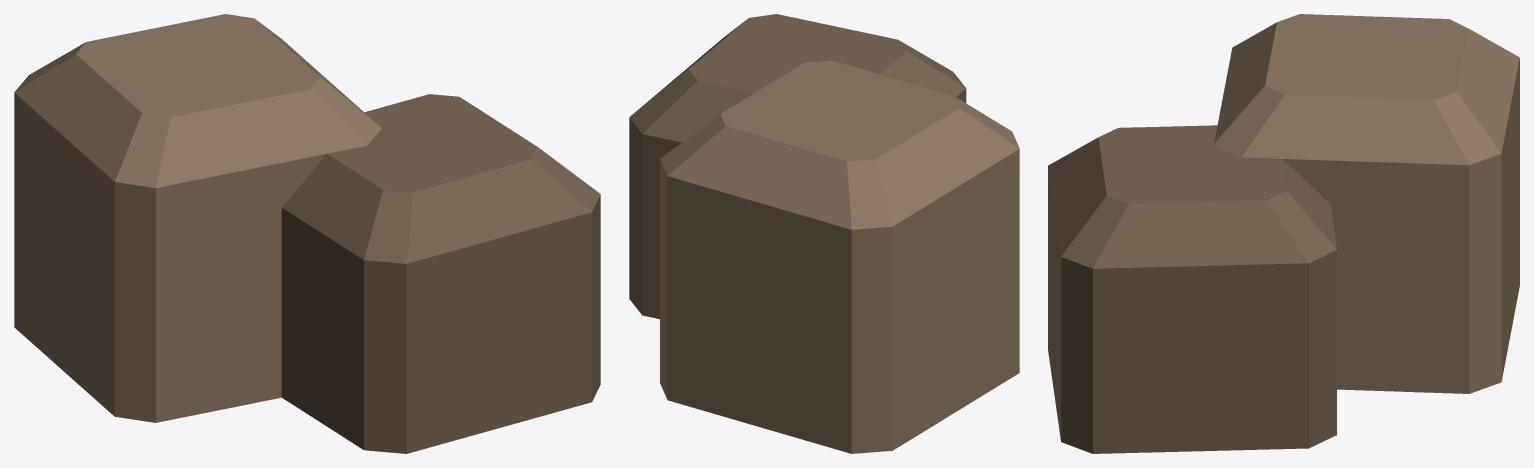
Rendered from cube_sculpture_sand_b.obj.
3 renders of one model, left to right at view 1: azimuth 30°, elevation 25°; view 2: azimuth 150°, elevation 25°; view 3: azimuth 270°, elevation 25°, orthographic. The views are drawn at different scales.
Parts seen in each view (by area): view 1: cube_sculpture_sand_b_0, cube_sculpture_sand_b_2, cube_sculpture_sand_b_1, cube_sculpture_sand_b_3; view 2: cube_sculpture_sand_b_0, cube_sculpture_sand_b_1, cube_sculpture_sand_b_3, cube_sculpture_sand_b_2; view 3: cube_sculpture_sand_b_2, cube_sculpture_sand_b_0, cube_sculpture_sand_b_1, cube_sculpture_sand_b_3.
Boxes of the visible parts, left/top/right/bottom form: cube_sculpture_sand_b_0: left=14, top=93, right=326, bottom=422; cube_sculpture_sand_b_2: left=281, top=195, right=600, bottom=453; cube_sculpture_sand_b_1: left=14, top=14, right=381, bottom=187; cube_sculpture_sand_b_3: left=282, top=94, right=600, bottom=263; cube_sculpture_sand_b_0: left=660, top=149, right=1019, bottom=453; cube_sculpture_sand_b_1: left=660, top=60, right=1019, bottom=229; cube_sculpture_sand_b_3: left=629, top=14, right=966, bottom=142; cube_sculpture_sand_b_2: left=629, top=89, right=966, bottom=318; cube_sculpture_sand_b_2: left=1048, top=166, right=1336, bottom=453; cube_sculpture_sand_b_0: left=1282, top=58, right=1519, bottom=393; cube_sculpture_sand_b_1: left=1214, top=14, right=1519, bottom=165; cube_sculpture_sand_b_3: left=1048, top=125, right=1336, bottom=268.
Bounding box in the file's own units: 0.7448 × 0.5 × 0.7848.
